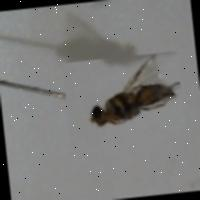Oriental-fruit-fly: (61, 50, 184, 148)
